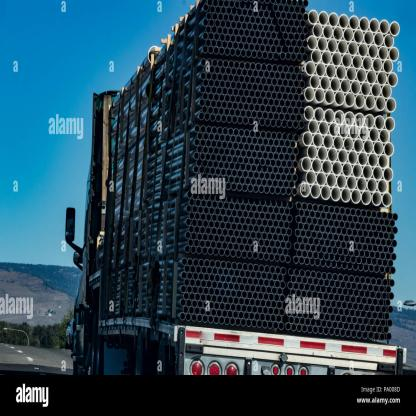PVC: (107, 0, 402, 347)
